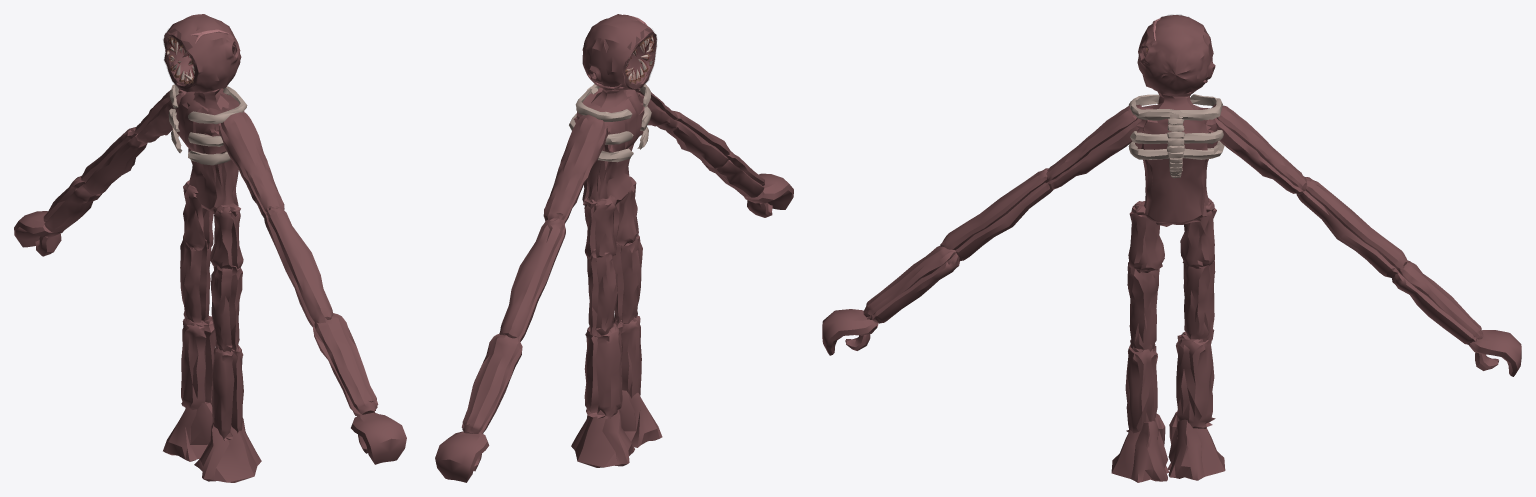
Rendered from 1783381355781_figure_doors_roblox.glb.
3 renders of one model, left to right at view 1: azimuth 30°, elevation 25°; view 2: azimuth 150°, elevation 25°; view 3: azimuth 270°, elevation 25°, orthographic. The views are drawn at different scales.
Visible parts, largest first — view 1: Object_8, Object_9, Object_4, Object_2; view 2: Object_8, Object_9, Object_4; view 3: Object_8, Object_9, Object_4.
Boxes of the visible parts, x1,y1,x2,y2 form: Object_8: (14,14,244,461); Object_9: (194,108,406,482); Object_4: (168,84,247,165); Object_2: (163,29,197,91); Object_8: (435,14,656,482); Object_9: (613,88,793,447); Object_4: (569,84,651,162); Object_8: (1128,15,1521,480); Object_9: (822,104,1169,482); Object_4: (1128,94,1224,178).
Bounding box in the file's own units: 1.82 × 10.8 × 15.36.
